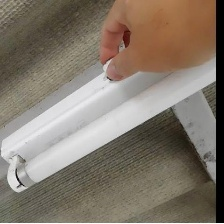light_bulb: (7, 53, 223, 194)
